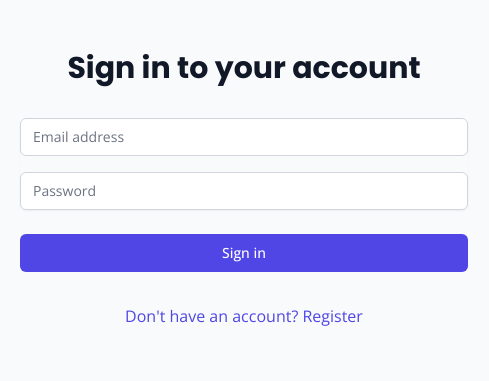
Test case: Login Component › displays error message on login failure
In the field with placeholder "Email address": (244, 137) [20,118,468,156], type "test@example.com"
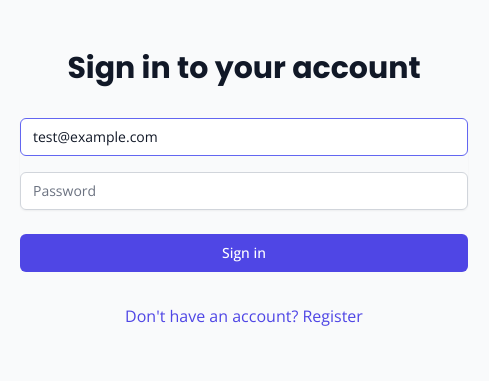
In the password field with placeholder "Password": (244, 191) [20,172,468,210], type "wrongpassword"
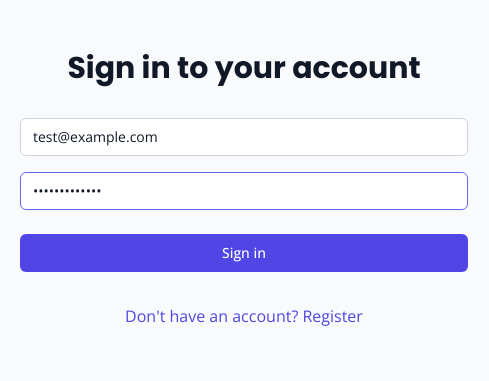
Click the button "Sign in": click(244, 253) [20,234,468,272]
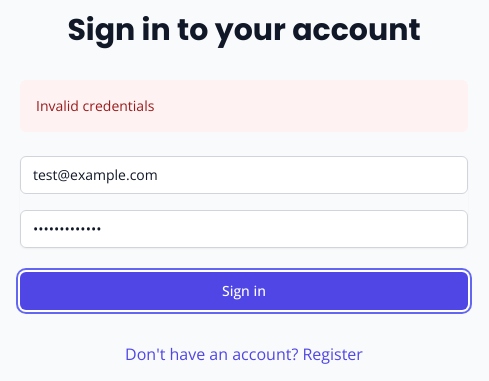
Expected: the text "Invalid credentials" is shown, [36,96,154,115]
